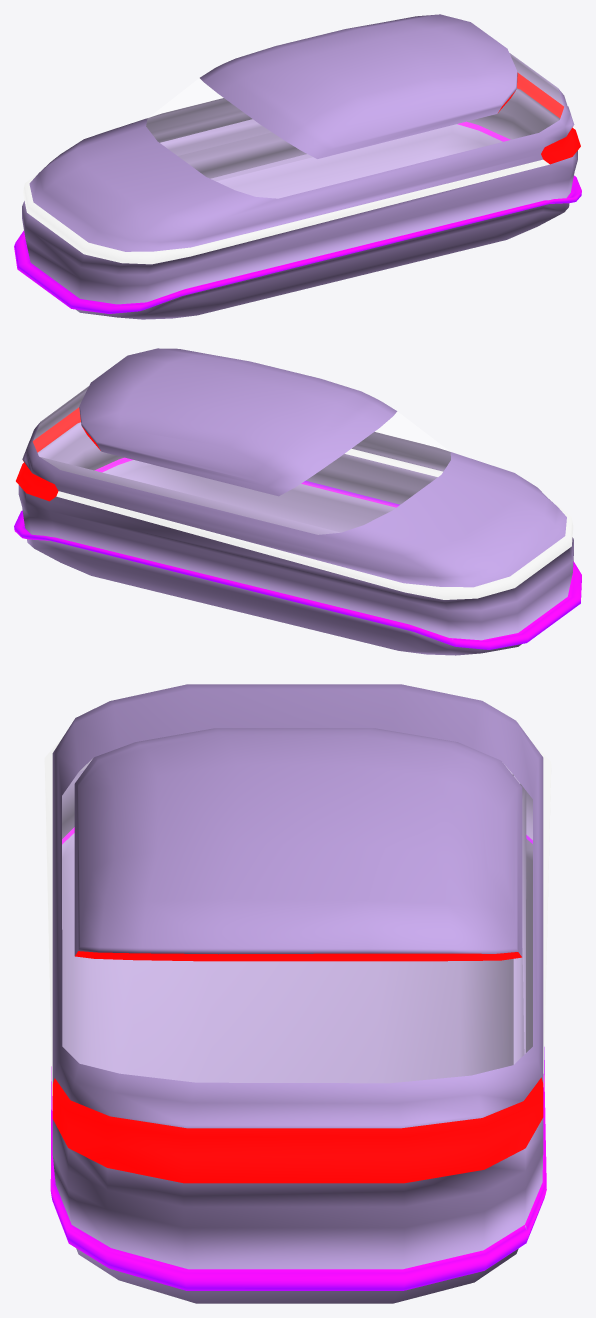
Rendered from car4.glb.
The picture shows the model from 3 angles, top to bottom: view 1: azimuth 30°, elevation 25°; view 2: azimuth 150°, elevation 25°; view 3: azimuth 270°, elevation 25°; orthographic projection. The views are drawn at different scales.
Parts seen in each view (by area): view 1: Flying car 4; view 2: Flying car 4; view 3: Flying car 4.
Part boxes in pixels (<box>): Flying car 4: <box>14,14,581,319</box>; Flying car 4: <box>14,348,581,655</box>; Flying car 4: <box>44,684,551,1303</box>.
Size of the model in its own units: 17.24 by 5.96 by 7.49.
